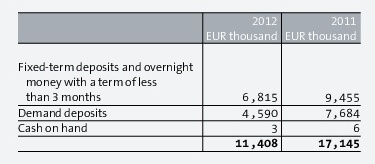table: (0, 0, 375, 164)
